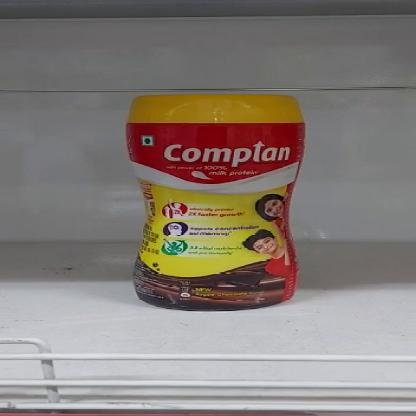Complan Royal Chocolate: (128, 96, 308, 310)
